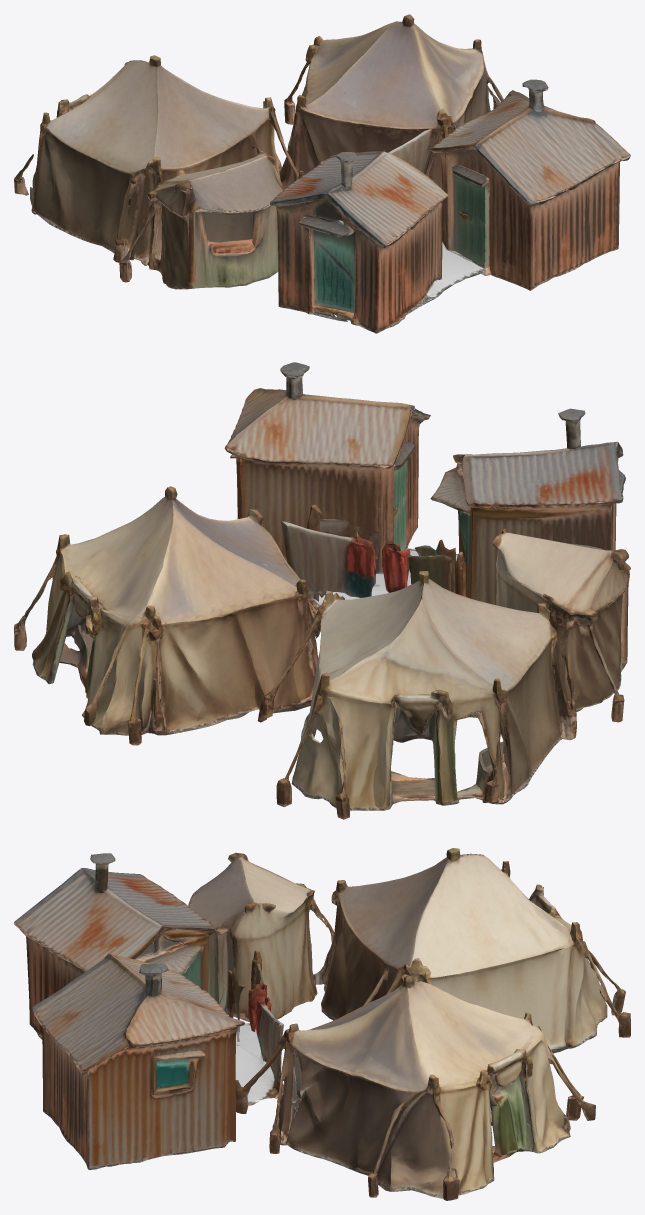
File: bld_maabara_tents.glb
The picture shows the model from 3 angles, top to bottom: view 1: azimuth 30°, elevation 25°; view 2: azimuth 150°, elevation 25°; view 3: azimuth 270°, elevation 25°; orthographic projection. The views are drawn at different scales.
Parts seen in each view (by area): view 1: geometry_0; view 2: geometry_0; view 3: geometry_0.
Boxes of the visible parts, box(x1,y1,x2,y2) form: geometry_0: box(14, 14, 630, 333); geometry_0: box(14, 362, 630, 819); geometry_0: box(14, 848, 630, 1200).
Bounding box in the file's own units: 11.07 × 4 × 11.89.
Materials: 1 (1 with a texture image).
